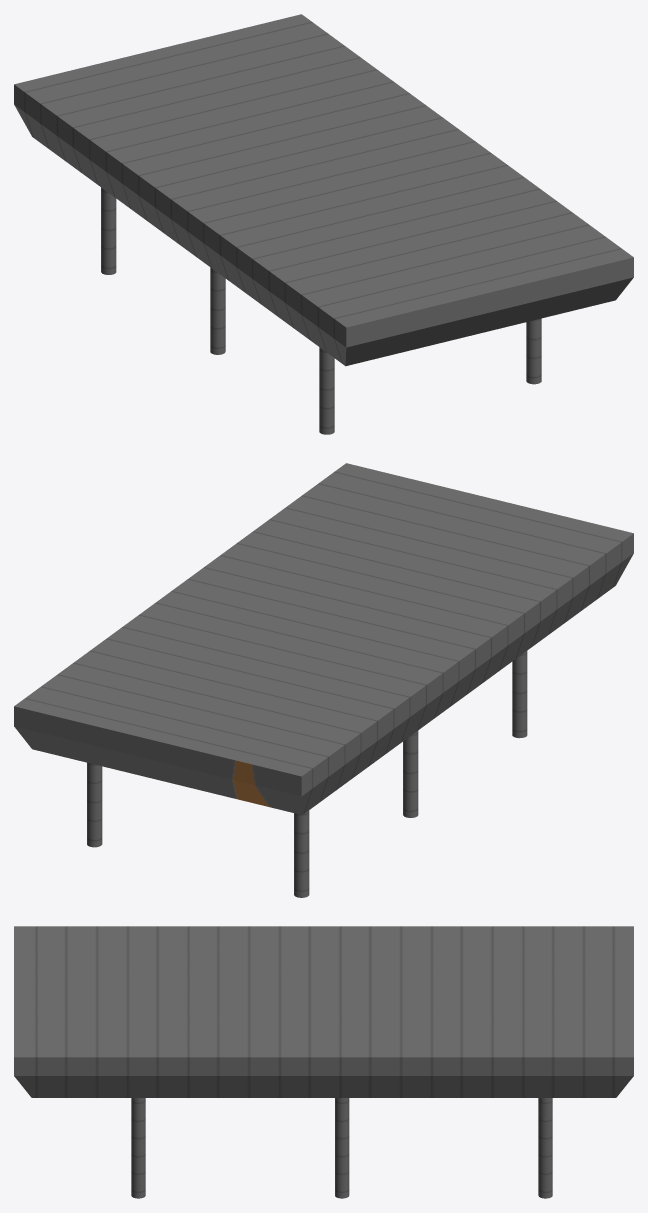
File: Toll_langfang_west.obj
3 renders of one model, top to bottom at view 1: azimuth 30°, elevation 25°; view 2: azimuth 150°, elevation 25°; view 3: azimuth 270°, elevation 25°, orthographic. The views are drawn at different scales.
Visible parts, largest first — view 1: Cube.017_Cube.028; view 2: Cube.017_Cube.028; view 3: Cube.017_Cube.028.
Boxes of the visible parts, bbox=[...] form: Cube.017_Cube.028: bbox=[14, 14, 633, 434]; Cube.017_Cube.028: bbox=[14, 463, 633, 897]; Cube.017_Cube.028: bbox=[14, 926, 633, 1198].
Size of the model in its own units: 16.35 by 8.93 by 32.71.
